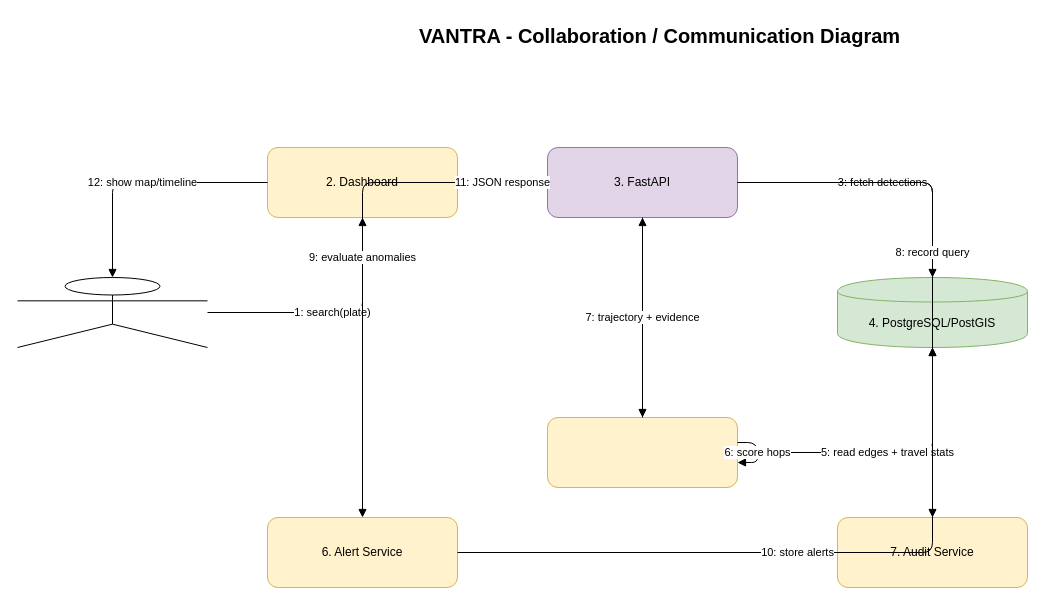
Image size: 1055x605. Some labels were removed from this diagram. The shapes that lost their labels are listed below. From the top down, each one's centre as x and y in pixels, then its label:
At point 112,312: "1. Operator".
At point 642,452: "5. Matcher".
